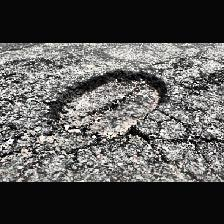pothole: (46, 67, 168, 139)
